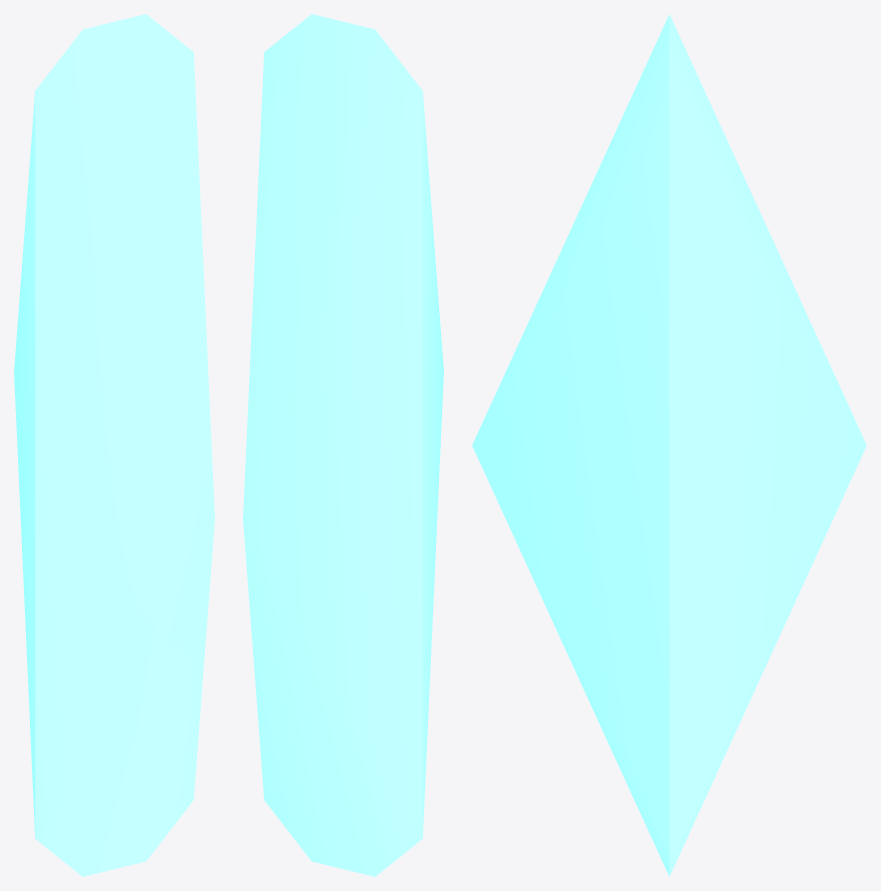
Rendered from Estela_GuanteIzq_Neon.fbx.
The picture shows the model from 3 angles, left to right: view 1: azimuth 30°, elevation 25°; view 2: azimuth 150°, elevation 25°; view 3: azimuth 270°, elevation 25°; orthographic projection.
Visible parts, largest first — view 1: Estela_GuanteIzq_Neon; view 2: Estela_GuanteIzq_Neon; view 3: Estela_GuanteIzq_Neon.
Part boxes in pixels (x1=…): Estela_GuanteIzq_Neon: x1=14, y1=14, x2=214, y2=876; Estela_GuanteIzq_Neon: x1=243, y1=14, x2=443, y2=876; Estela_GuanteIzq_Neon: x1=472, y1=14, x2=866, y2=876.
Size of the model in its own units: 0.05 by 0.2552 by 0.1097.
